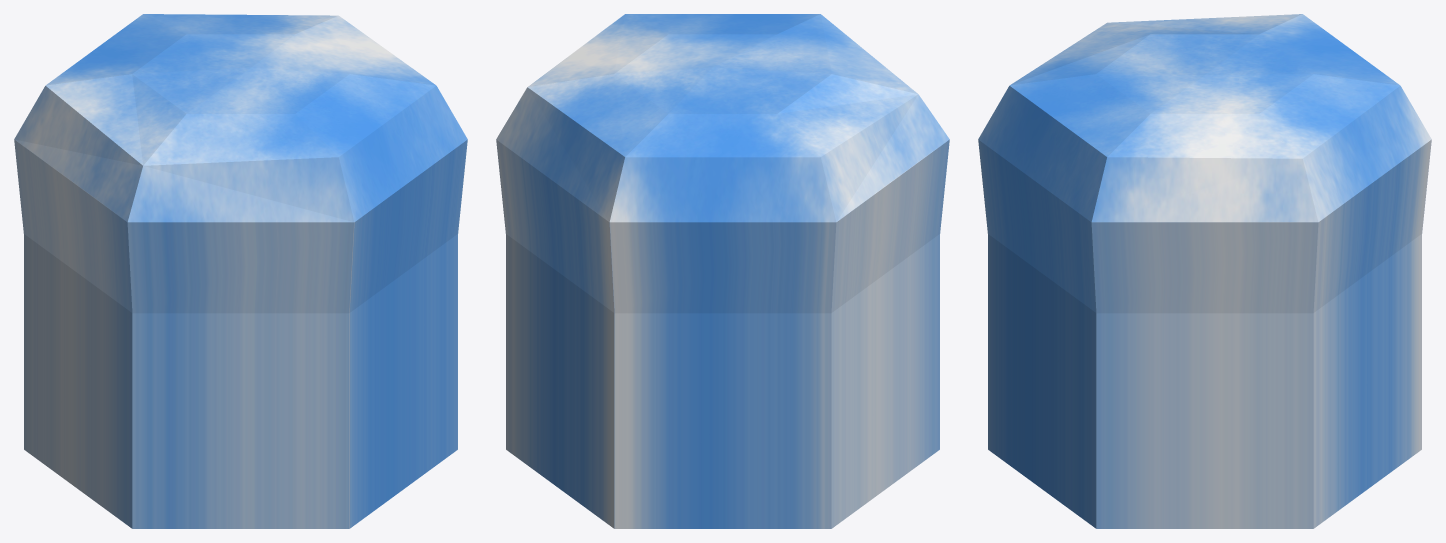
Rendered from cloud.obj.
3 views of the same model, side by side, from view 1: azimuth 30°, elevation 25°; view 2: azimuth 150°, elevation 25°; view 3: azimuth 270°, elevation 25° (orthographic).
Bounding box in the file's own units: 18.09 × 19.28 × 20.89.
1 material, 1 textured.
